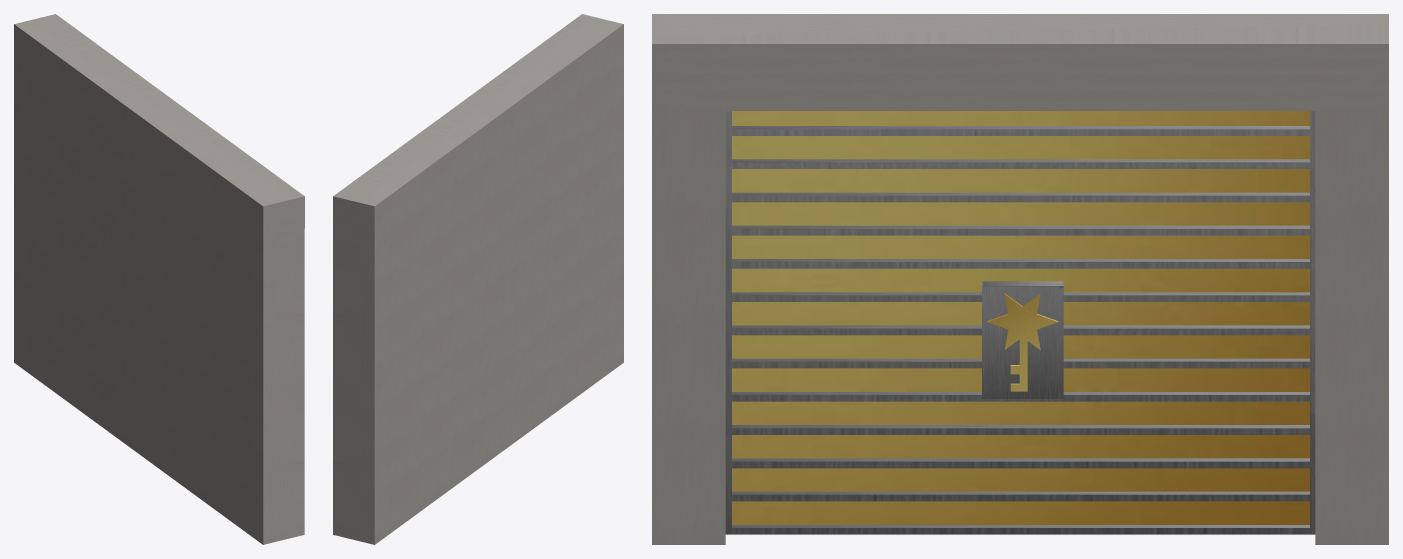
File: ExitDoor.obj
The picture shows the model from 3 angles, left to right: view 1: azimuth 30°, elevation 25°; view 2: azimuth 150°, elevation 25°; view 3: azimuth 270°, elevation 25°; orthographic projection. The views are drawn at different scales.
Parts seen in each view (by area): view 1: Box373; view 2: Box373; view 3: Box391, Box373, Box378, Box392, Box375, Box376, Box383, Box384, Box374, Box377, Box382, Box385 (+5 smaller).
Part boxes in pixels (<box>): Box373: <box>14,14,304,544</box>; Box373: <box>333,14,623,544</box>; Box391: <box>732,111,1309,524</box>; Box373: <box>652,14,1388,544</box>; Box378: <box>732,325,1309,401</box>; Box392: <box>982,281,1063,399</box>; Box375: <box>732,491,1309,501</box>; Box376: <box>732,458,1309,468</box>; Box383: <box>732,225,1309,235</box>; Box384: <box>732,192,1309,202</box>; Box374: <box>725,525,1315,534</box>; Box377: <box>732,425,1309,434</box>; Box382: <box>732,259,1309,268</box>; Box385: <box>732,159,1309,168</box>.
Bounding box in the file's own units: 15.21 × 119 × 157.
